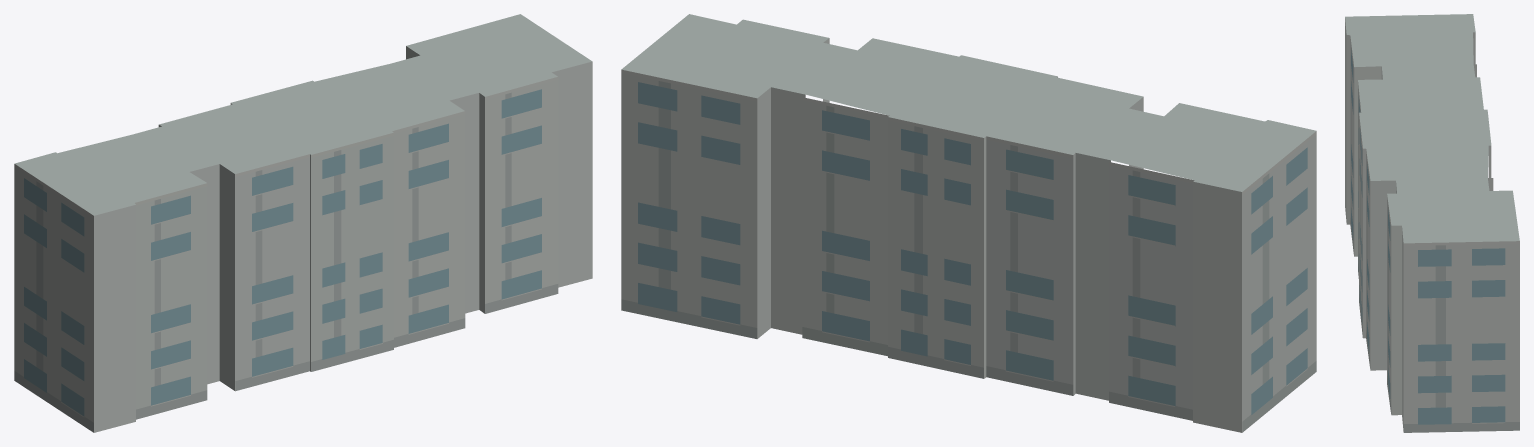
File: survey-upis-32697548.glb
3 views of the same model, side by side, from view 1: azimuth 30°, elevation 25°; view 2: azimuth 150°, elevation 25°; view 3: azimuth 270°, elevation 25° (orthographic). The views are drawn at different scales.
Visible parts, largest first — view 1: survey-upis-32697548.tmp; view 2: survey-upis-32697548.tmp; view 3: survey-upis-32697548.tmp.
Boxes of the visible parts, x1,y1,x2,y2 form: survey-upis-32697548.tmp: [14, 14, 592, 432]; survey-upis-32697548.tmp: [621, 14, 1316, 432]; survey-upis-32697548.tmp: [1345, 14, 1519, 432].
Bounding box in the file's own units: 45.03 × 17.35 × 14.52.
